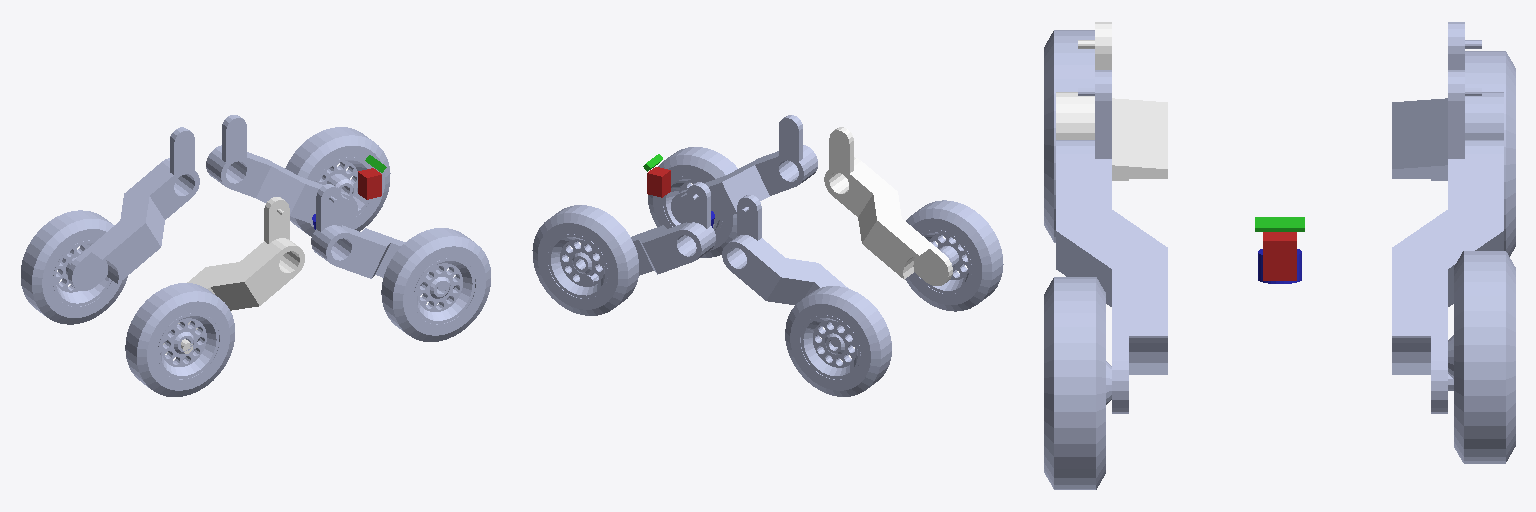
URDF robot description (urdf):
<?xml version="1.0" encoding="utf-8"?>
<!-- This URDF was automatically created by SolidWorks to URDF Exporter! Originally created by Stephen Brawner (brawner@gmail.com) 
     Commit Version: 1.6.0-4-g7f85cfe  Build Version: 1.6.7995.38578
     For more information, please see http://wiki.ros.org/sw_urdf_exporter -->
<robot
  name="urdf">
  <link
    name="base_link">
    <inertial>
      <origin
        xyz="-1.1833E-17 6.993E-16 -0.18893"
        rpy="0 0 0" />
      <mass
        value="100.00" />
      <inertia
        ixx="2.1994"
        ixy="-6.9796E-16"
        ixz="-1.0409E-15"
        iyy="5.8335"
        iyz="-6.0685E-15"
        izz="7.3738" />
    </inertial>
    <visual>
      <origin
        xyz="0 0 0"
        rpy="0 0 0" />
      <geometry>
        <mesh
          filename="../meshes/base_link.STL" />
      </geometry>
      <material
        name="">
        <color
          rgba="0.92941 1 0.95686 1" />
      </material>
    </visual>
    <collision>
      <origin
        xyz="0 0 0"
        rpy="0 0 0" />
      <geometry>
        <mesh
          filename="../meshes/base_link.STL" />
      </geometry>
    </collision>
  </link>
  <link
    name="lb_Link">
    <inertial>
      <origin
        xyz="-0.167137972568874 0.000576453381228637 -0.0981771092292079"
        rpy="0 0 0" />
      <mass
        value="5" />
      <inertia
        ixx="0.0663395313797743"
        ixy="-0.0198368647273712"
        ixz="-0.052891266693704"
        iyy="0.130501097881963"
        iyz="-0.0131143090440989"
        izz="0.0965282148403548" />
    </inertial>
    <visual>
      <origin
        xyz="0 0 0"
        rpy="0 0 0" />
      <geometry>
        <mesh
          filename="../meshes/lb_Link.STL" />
      </geometry>
      <material
        name="">
        <color
          rgba="0.792156862745098 0.819607843137255 0.933333333333333 1" />
      </material>
    </visual>
    <collision>
      <origin
        xyz="0 0 0"
        rpy="0 0 0" />
      <geometry>
        <mesh
          filename="../meshes/lb_Link.STL" />
      </geometry>
    </collision>
  </link>
  <joint
    name="g_lb"
    type="revolute">
    <origin
      xyz="-0.1 0.3 -0.28"
      rpy="0 0 0" />
    <parent
      link="base_link" />
    <child
      link="lb_Link" />
    <axis
      xyz="0 1 0" />
    <limit
      lower="-0.35"
      upper="0.35"
      effort="500"
      velocity="5" />
    <dynamics
      damping="0.1"
      friction="0.1" />
    <safety_controller
      soft_upper_limit="0.4"
      soft_lower_limit="-0.4"
      k_position="10"
      k_velocity="5" />
  </joint>
  <link
    name="w_lb">
    <inertial>
      <origin
        xyz="0 -0.0348147111715202 -2.22044604925031E-16"
        rpy="0 0 0" />
      <mass
        value="3.0" />
      <inertia
        ixx="0.0028"
        ixy="0"
        ixz="0"
        iyy="0.0038"
        iyz="0"
        izz="0.0028" />
    </inertial>
    <visual>
      <origin
        xyz="0 0 0"
        rpy="0 0 0" />
      <geometry>
        <mesh
          filename="../meshes/w_lb.STL" />
      </geometry>
      <material
        name="">
        <color
          rgba="0.792156862745098 0.819607843137255 0.933333333333333 1" />
      </material>
    </visual>
    <collision>
      <origin
        xyz="0 0 0"
        rpy="0 0 0" />
      <geometry>
        <mesh
          filename="../meshes/w_lb.STL" />
      </geometry>
    </collision>
  </link>
  <joint
    name="w_lb"
    type="continuous">
    <origin
      xyz="-0.38089 0.1 -0.23963"
      rpy="0 0 0" />
    <parent
      link="lb_Link" />
    <child
      link="w_lb" />
    <axis
      xyz="0 -1 0" />
    <dynamics
      damping="0.1"
      friction="0.1" />
  </joint>
  <link
    name="lf_Link">
    <inertial>
      <origin
        xyz="0.182162464509715 0.000576453381228526 -0.0662622303788842"
        rpy="0 0 0" />
      <mass
        value="5" />
      <inertia
        ixx="0.0484781635635341"
        ixy="0.0218850219603635"
        ixz="0.0440368760588216"
        iyy="0.130501097881963"
        iyz="-0.00930226411743767"
        izz="0.114389582656595" />
    </inertial>
    <visual>
      <origin
        xyz="0 0 0"
        rpy="0 0 0" />
      <geometry>
        <mesh
          filename="../meshes/lf_Link.STL" />
      </geometry>
      <material
        name="">
        <color
          rgba="0.792156862745098 0.819607843137255 0.933333333333333 1" />
      </material>
    </visual>
    <collision>
      <origin
        xyz="0 0 0"
        rpy="0 0 0" />
      <geometry>
        <mesh
          filename="../meshes/lf_Link.STL" />
      </geometry>
    </collision>
  </link>
  <joint
    name="g_lf"
    type="revolute">
    <origin
      xyz="0.1 0.3 -0.28"
      rpy="0 0 0" />
    <parent
      link="base_link" />
    <child
      link="lf_Link" />
    <axis
      xyz="0 1 0" />
    <limit
      lower="-0.35"
      upper="0.35"
      effort="500"
      velocity="5" />
    <dynamics
      damping="0.1"
      friction="0.1" />
    <safety_controller
      soft_upper_limit="0.4"
      soft_lower_limit="-0.4"
      k_position="10"
      k_velocity="5" />
  </joint>
  <link
    name="w_lf">
    <inertial>
      <origin
        xyz="-1.1102E-16 -0.034815 -1.1102E-16"
        rpy="0 0 0" />
      <mass
        value="3" />
      <inertia
        ixx="0.0028"
        ixy="0"
        ixz="0"
        iyy="0.0038"
        iyz="0"
        izz="0.0028" />
    </inertial>
    <visual>
      <origin
        xyz="0 0 0"
        rpy="0 0 0" />
      <geometry>
        <mesh
          filename="../meshes/w_lf.STL" />
      </geometry>
      <material
        name="">
        <color
          rgba="0.79216 0.81961 0.93333 1" />
      </material>
    </visual>
    <collision>
      <origin
        xyz="0 0 0"
        rpy="0 0 0" />
      <geometry>
        <mesh
          filename="../meshes/w_lf.STL" />
      </geometry>
    </collision>
  </link>
  <joint
    name="w_lf"
    type="continuous">
    <origin
      xyz="0.41801041206503 0.100000000000001 -0.166635216581701"
      rpy="0 0 0" />
    <parent
      link="lf_Link" />
    <child
      link="w_lf" />
    <axis
      xyz="0 -1 0" />
    <dynamics
      damping="0.1"
      friction="0.1" />
  </joint>
  <link
    name="rf_Link">
    <inertial>
      <origin
        xyz="0.168550228896527 -0.00057645338122797 -0.0957322672350638"
        rpy="0 0 0" />
      <mass
        value="5" />
      <inertia
        ixx="0.0648053370600335"
        ixy="-0.0200257752517811"
        ixz="0.0524291620528891"
        iyy="0.130501097881963"
        iyz="0.0128239864894397"
        izz="0.098062409160096" />
    </inertial>
    <visual>
      <origin
        xyz="0 0 0"
        rpy="0 0 0" />
      <geometry>
        <mesh
          filename="../meshes/rf_Link.STL" />
      </geometry>
      <material
        name="">
        <color
          rgba="0.792156862745098 0.819607843137255 0.933333333333333 1" />
      </material>
    </visual>
    <collision>
      <origin
        xyz="0 0 0"
        rpy="0 0 0" />
      <geometry>
        <mesh
          filename="../meshes/rf_Link.STL" />
      </geometry>
    </collision>
  </link>
  <joint
    name="g_rf"
    type="revolute">
    <origin
      xyz="0.1 -0.3 -0.28"
      rpy="0 0 0" />
    <parent
      link="base_link" />
    <child
      link="rf_Link" />
    <axis
      xyz="0 -1 0" />
    <limit
      lower="-0.35"
      upper="0.35"
      effort="500"
      velocity="5" />
    <dynamics
      damping="0.1"
      friction="0.1" />
    <safety_controller
      soft_upper_limit="0.4"
      soft_lower_limit="-0.4"
      k_position="10"
      k_velocity="5" />
  </joint>
  <link
    name="w_rf">
    <inertial>
      <origin
        xyz="5.5511E-17 0.034815 3.3307E-16"
        rpy="0 0 0" />
      <mass
        value="3" />
      <inertia
        ixx="0.0028"
        ixy="0"
        ixz="0"
        iyy="0.0038"
        iyz="0"
        izz="0.0028" />
    </inertial>
    <visual>
      <origin
        xyz="0 0 0"
        rpy="0 0 0" />
      <geometry>
        <mesh
          filename="../meshes/w_rf.STL" />
      </geometry>
      <material
        name="">
        <color
          rgba="0.79216 0.81961 0.93333 1" />
      </material>
    </visual>
    <collision>
      <origin
        xyz="0 0 0"
        rpy="0 0 0" />
      <geometry>
        <mesh
          filename="../meshes/w_rf.STL" />
      </geometry>
    </collision>
  </link>
  <joint
    name="w_rf"
    type="continuous">
    <origin
      xyz="0.38434 -0.1 -0.23406"
      rpy="0 0 0" />
    <parent
      link="rf_Link" />
    <child
      link="w_rf" />
    <axis
      xyz="0 1 0" />
    <dynamics
      damping="0.1"
      friction="0.1" />
  </joint>
  <link
    name="rb_Link">
    <inertial>
      <origin
        xyz="-0.168550228896527 -0.00057645338122797 -0.0957322672350638"
        rpy="0 0 0" />
      <mass
        value="5" />
      <inertia
        ixx="0.0648053370600335"
        ixy="-0.0200257752517811"
        ixz="0.0524291620528891"
        iyy="0.130501097881963"
        iyz="0.0128239864894397"
        izz="0.098062409160096" />
    </inertial>
    <visual>
      <origin
        xyz="0 0 0"
        rpy="0 0 0" />
      <geometry>
        <mesh
          filename="../meshes/rb_Link.STL" />
      </geometry>
      <material
        name="">
        <color
          rgba="1 1 1 1" />
      </material>
    </visual>
    <collision>
      <origin
        xyz="0 0 0"
        rpy="0 0 0" />
      <geometry>
        <mesh
          filename="../meshes/rb_Link.STL" />
      </geometry>
    </collision>
  </link>
  <joint
    name="g_rb"
    type="revolute">
    <origin
      xyz="-0.1 -0.3 -0.28"
      rpy="0 0 0" />
    <parent
      link="base_link" />
    <child
      link="rb_Link" />
    <axis
      xyz="0 -1 0" />
    <limit
      lower="-0.35"
      upper="0.35"
      effort="500"
      velocity="5" />
    <dynamics
      damping="0.1"
      friction="0.1" />
    <safety_controller
      soft_upper_limit="0.4"
      soft_lower_limit="-0.4"
      k_position="10"
      k_velocity="5" />
  </joint>
  <link
    name="w_rb">
    <inertial>
      <origin
        xyz="0 0.0348147111715202 1.66533453693773E-16"
        rpy="0 0 0" />
      <mass
        value="3" />
      <inertia
        ixx="0.0028"
        ixy="0"
        ixz="0"
        iyy="0.0038"
        iyz="0"
        izz="0.0028" />
    </inertial>
    <visual>
      <origin
        xyz="0 0 0"
        rpy="0 0 0" />
      <geometry>
        <mesh
          filename="../meshes/w_rb.STL" />
      </geometry>
      <material
        name="">
        <color
          rgba="0.792156862745098 0.819607843137255 0.933333333333333 1" />
      </material>
    </visual>
    <collision>
      <origin
        xyz="0 0 0"
        rpy="0 0 0" />
      <geometry>
        <mesh
          filename="../meshes/w_rb.STL" />
      </geometry>
    </collision>
  </link>
  <joint
    name="w_rb"
    type="continuous">
    <origin
      xyz="-0.39963 -0.1 -0.20687"
      rpy="0 0 0" />
    <parent
      link="rb_Link" />
    <child
      link="w_rb" />
    <axis
      xyz="0 1 0" />
    <dynamics
      damping="0.1"
      friction="0.1" />
  </joint>
  <link
    name="mid360_link">
    <visual>
      <origin
        xyz="0 0 0"
        rpy="0 0 0" />
      <geometry>
        <cylinder
          radius="0.04"
          length="0.05" />
      </geometry>
      <material
        name="">
        <color
          rgba="0.2 0.2 0.8 1.0" />
      </material>
    </visual>
    <collision>
      <origin
        xyz="0 0 0"
        rpy="0 0 0" />
      <geometry>
        <cylinder
          radius="0.04"
          length="0.05" />
      </geometry>
    </collision>
  </link>
  <joint
    name="mid360_joint"
    type="fixed">
    <origin
      xyz="0.26856 0 -0.38302"
      rpy="2.932153 0 1.570796" />
    <parent
      link="base_link" />
    <child
      link="mid360_link" />
  </joint>
  <link
    name="avia_link">
    <visual>
      <origin
        xyz="0 0 0"
        rpy="0 0 0" />
      <geometry>
        <box
          size="0.06 0.06 0.08" />
      </geometry>
      <material
        name="">
        <color
          rgba="0.8 0.2 0.2 1.0" />
      </material>
    </visual>
    <collision>
      <origin
        xyz="0 0 0"
        rpy="0 0 0" />
      <geometry>
        <box
          size="0.06 0.06 0.08" />
      </geometry>
    </collision>
  </link>
  <joint
    name="avia_joint"
    type="fixed">
    <origin
      xyz="0.43983 0 -0.28000"
      rpy="0 0 0" />
    <parent
      link="base_link" />
    <child
      link="avia_link" />
  </joint>
  <link
    name="d435i_link">
    <visual>
      <origin
        xyz="0 0 0"
        rpy="0 0 0" />
      <geometry>
        <box
          size="0.02 0.09 0.025" />
      </geometry>
      <material
        name="">
        <color
          rgba="0.2 0.8 0.2 1.0" />
      </material>
    </visual>
    <collision>
      <origin
        xyz="0 0 0"
        rpy="0 0 0" />
      <geometry>
        <box
          size="0.02 0.09 0.025" />
      </geometry>
    </collision>
  </link>
  <joint
    name="d435i_joint"
    type="fixed">
    <origin
      xyz="0.46259 0 -0.21177"
      rpy="0 0.872665 0" />
    <parent
      link="base_link" />
    <child
      link="d435i_link" />
  </joint>
  <link
    name="d435i_depth_optical_frame" />
  <joint
    name="d435i_depth_optical_joint"
    type="fixed">
    <origin
      xyz="0 0 0"
      rpy="-1.570796 0 -1.570796" />
    <parent
      link="d435i_link" />
    <child
      link="d435i_depth_optical_frame" />
  </joint>
</robot>

--- Facts derived from the render (not from the file) ---
The picture shows the robot from 3 angles, left to right: view 1: azimuth 30°, elevation 25°; view 2: azimuth 150°, elevation 25°; view 3: azimuth 270°, elevation 25°; orthographic projection.
Robot: urdf — 13 links, 12 joints (4 revolute, 4 continuous, 4 fixed); root link base_link; default pose: all joints at 0.
Links seen in each view (by area): view 1: w_rf, w_rb, lb_Link, w_lb, rb_Link, lf_Link, w_lf, rf_Link, avia_link; view 2: w_lb, w_lf, rb_Link, w_rb, lb_Link, rf_Link, lf_Link, w_rf, avia_link; view 3: rf_Link, lf_Link, w_lf, w_rf, lb_Link, rb_Link, w_rb, w_lb, avia_link, d435i_link.
Link boxes in pixels (left/top/right/bottom): w_rf: left=381, top=228, right=490, bottom=341; w_rb: left=125, top=283, right=234, bottom=396; lb_Link: left=68, top=127, right=199, bottom=290; w_lb: left=21, top=210, right=127, bottom=324; rb_Link: left=163, top=197, right=304, bottom=353; lf_Link: left=206, top=115, right=357, bottom=226; w_lf: left=285, top=127, right=390, bottom=236; rf_Link: left=311, top=184, right=447, bottom=290; avia_link: left=358, top=168, right=381, bottom=199; w_lb: left=785, top=286, right=891, bottom=396; w_lf: left=532, top=205, right=638, bottom=315; rb_Link: left=824, top=127, right=952, bottom=285; w_rb: left=905, top=200, right=1003, bottom=311; lb_Link: left=722, top=195, right=853, bottom=346; rf_Link: left=671, top=115, right=817, bottom=223; lf_Link: left=583, top=182, right=715, bottom=286; w_rf: left=648, top=147, right=737, bottom=257; avia_link: left=647, top=167, right=670, bottom=197; rf_Link: left=1056, top=70, right=1167, bottom=413; lf_Link: left=1392, top=70, right=1503, bottom=413; w_lf: left=1448, top=251, right=1515, bottom=463; w_rf: left=1044, top=277, right=1111, bottom=489; lb_Link: left=1392, top=22, right=1503, bottom=180; rb_Link: left=1056, top=22, right=1167, bottom=180; w_rb: left=1044, top=30, right=1094, bottom=242; w_lb: left=1465, top=51, right=1515, bottom=256; avia_link: left=1263, top=232, right=1296, bottom=280; d435i_link: left=1255, top=217, right=1304, bottom=231.
Bounding box of the posed robot: 1.4 × 0.84 × 0.6294 m (x, y, z).
Meshes: 9 distinct files referenced, 8 mesh visuals loaded (8 binary STL); not drawn: 1 (reference not matched to a file when rendering).
